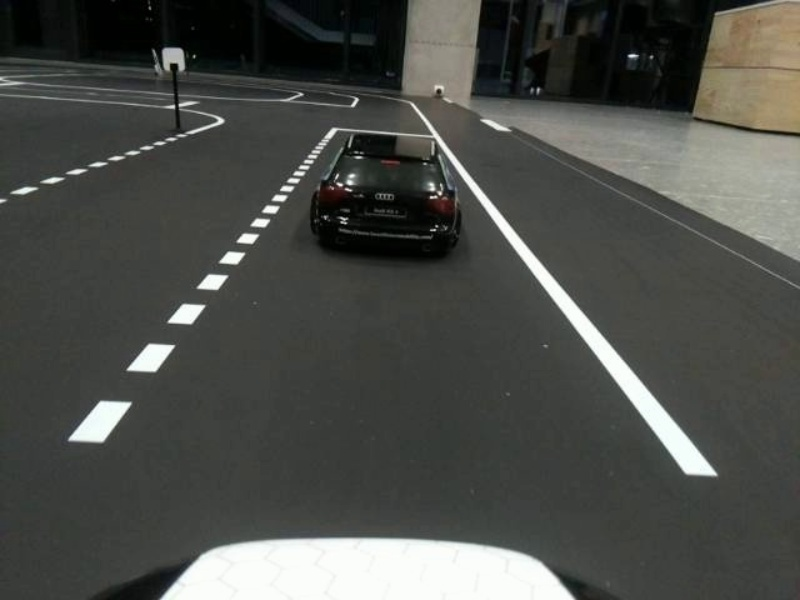car: (315, 128, 470, 257)
